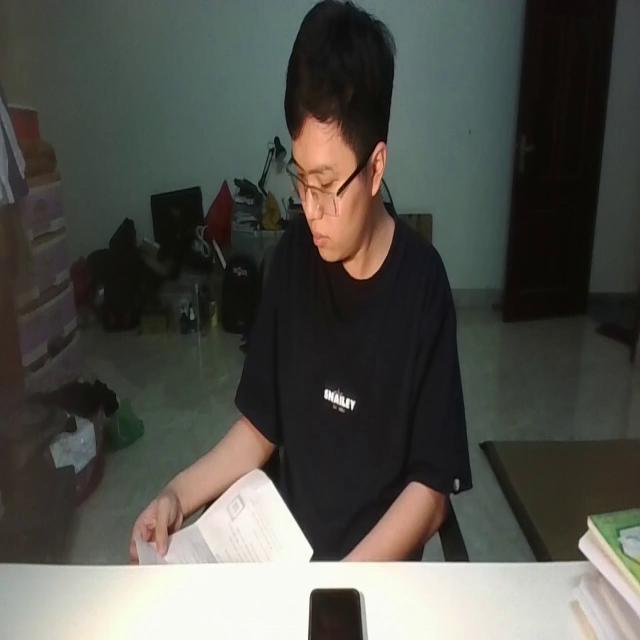book: (134, 462, 315, 566)
phone: (306, 579, 364, 640)
student: (128, 0, 470, 561)
